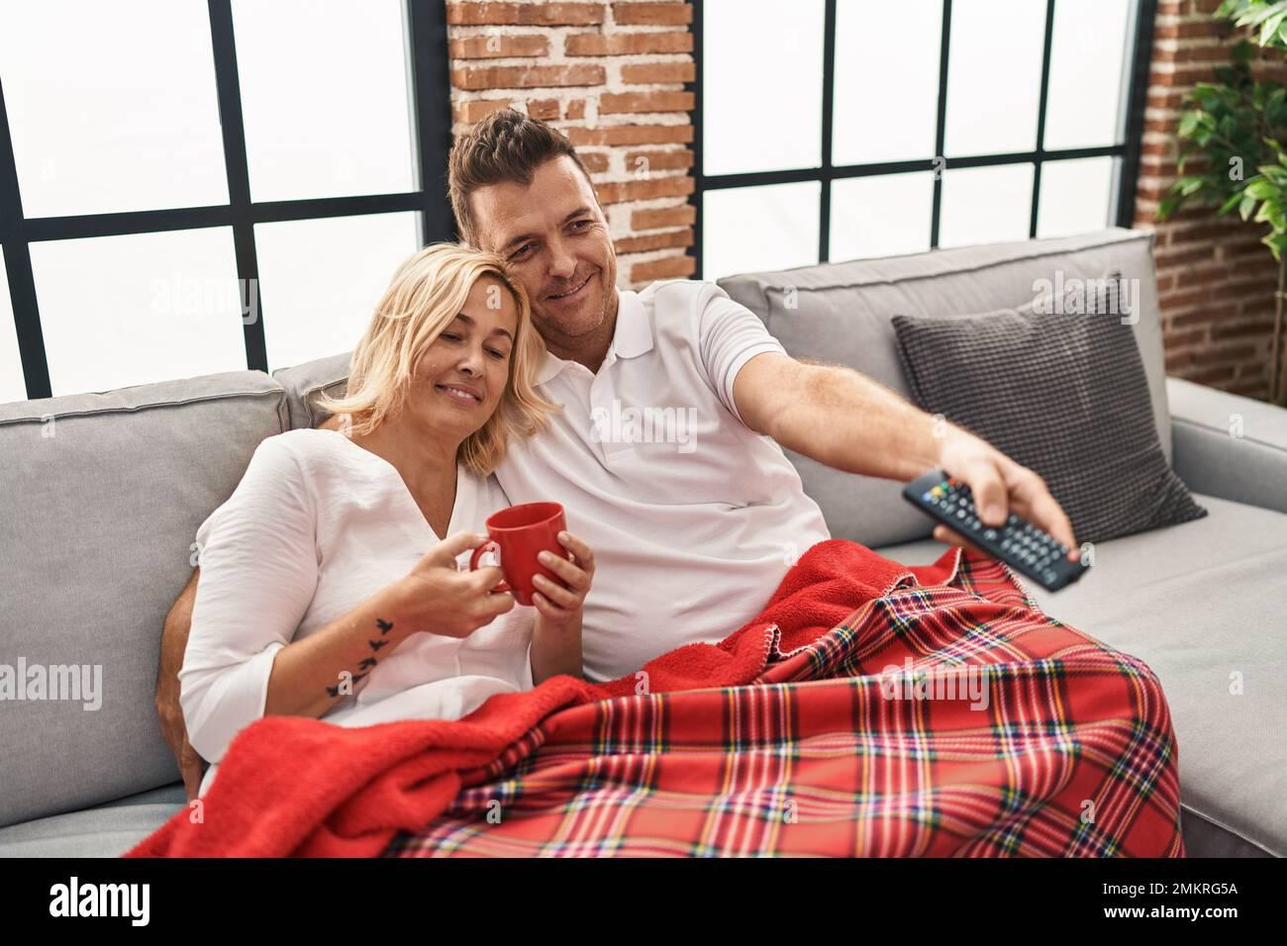blanket: (117, 532, 1187, 863)
long sleeve shirt: (171, 418, 547, 764)
short sleeve shirt: (480, 275, 838, 693)
